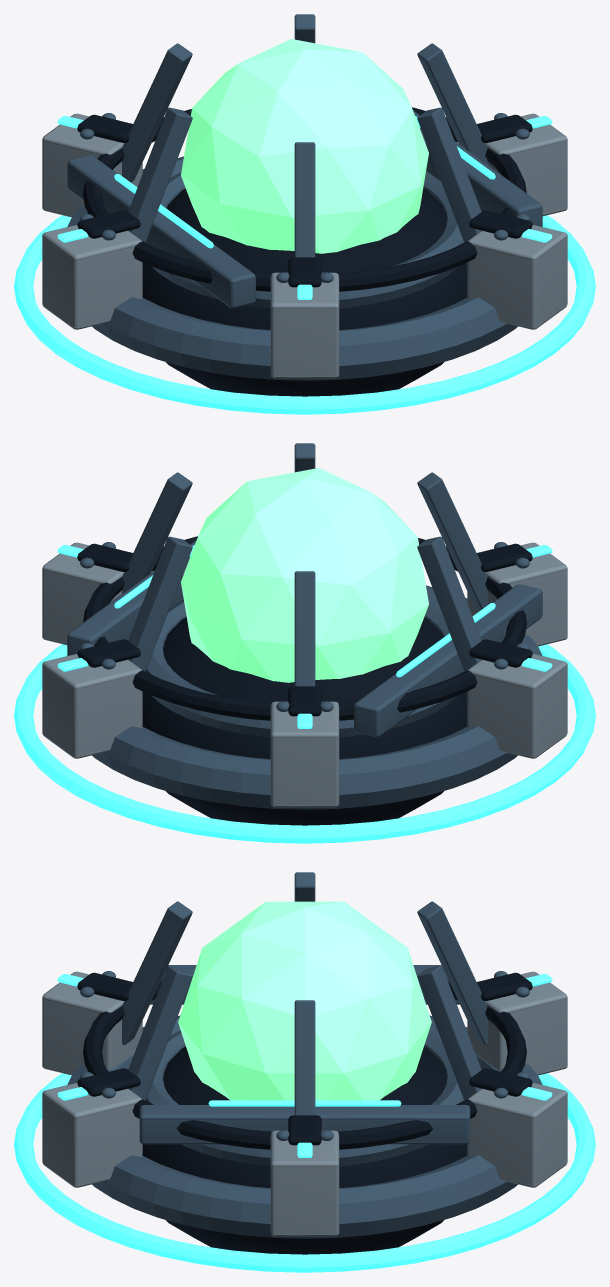
The model's file is station-core.glb.
The picture shows the model from 3 angles, top to bottom: view 1: azimuth 30°, elevation 25°; view 2: azimuth 150°, elevation 25°; view 3: azimuth 270°, elevation 25°; orthographic projection.
Visible parts, largest first — view 1: Sphere; view 2: Sphere; view 3: Sphere.
Boxes of the visible parts, bbox=[...] form: Sphere: bbox=[14, 14, 595, 414]; Sphere: bbox=[14, 443, 595, 843]; Sphere: bbox=[14, 872, 595, 1272].
Bounding box in the file's own units: 2.11 × 1.33 × 2.11.
